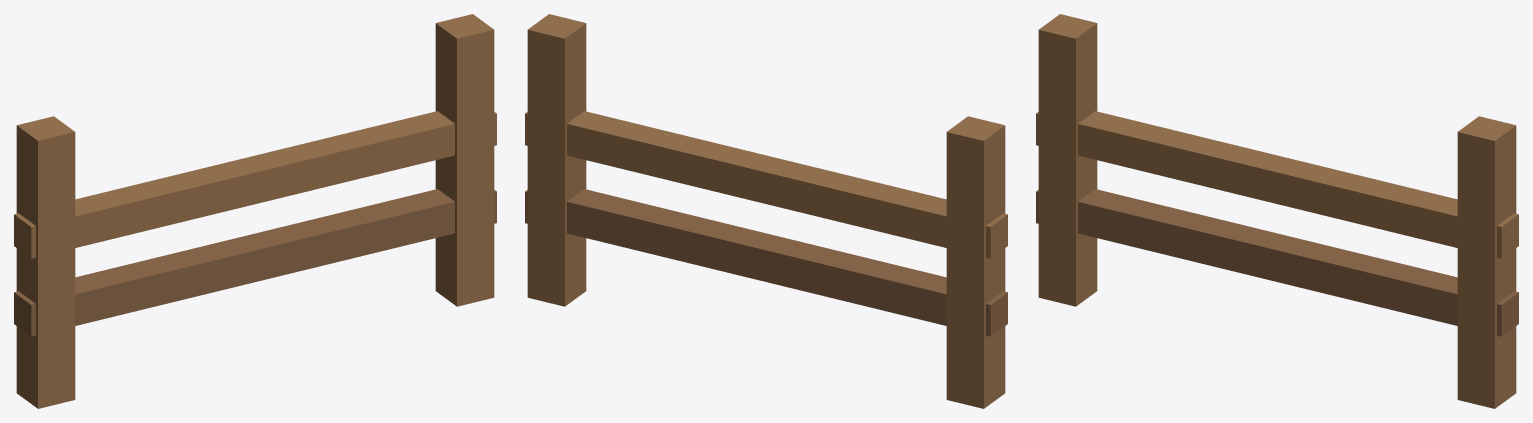
Rendered from wood_fence.glb.
The picture shows the model from 3 angles, left to right: view 1: azimuth 30°, elevation 25°; view 2: azimuth 150°, elevation 25°; view 3: azimuth 330°, elevation 25°; orthographic projection.
Visible parts, largest first — view 1: wood_fence; view 2: wood_fence; view 3: wood_fence.
Boxes of the visible parts, box(x1,y1,x2,y2) form: wood_fence: box(14, 14, 496, 408); wood_fence: box(525, 14, 1007, 408); wood_fence: box(1036, 14, 1518, 408).
Bounding box in the file's own units: 2 × 1.1 × 0.16.
2 materials, 2 textured.
